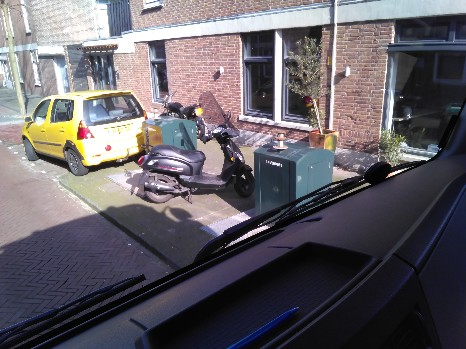Container: (250, 133, 320, 215), (146, 116, 195, 146)
Voertuig: (32, 89, 127, 174), (141, 140, 244, 212)
